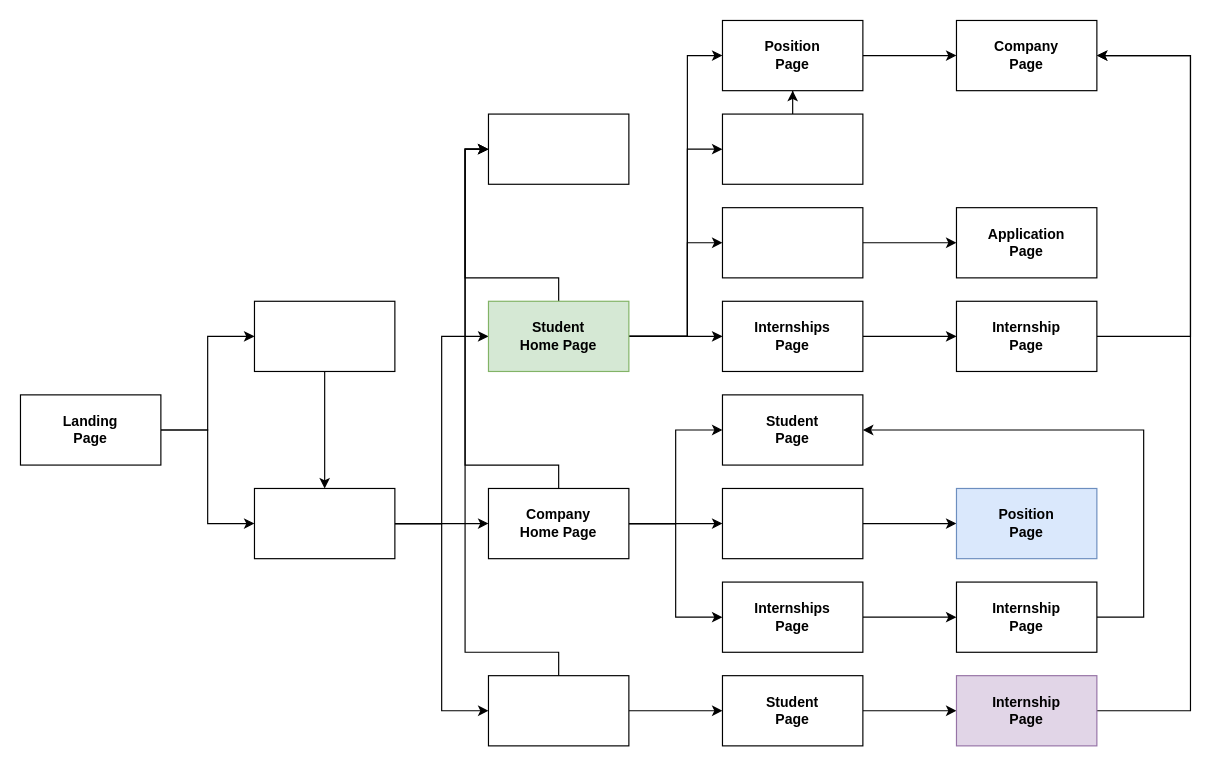
The diagram is 1220 pixels wide and 766 high, and some of its shapes have lost their labels. Here are the shapes that lost their labels. From the top down, the centre of each, then its label:
the point at 558,148: Profile Page
the point at 792,148: Results Page
the point at 792,242: Applications Page
the point at 324,335: Signup Page
the point at 324,523: Login Page
the point at 792,523: Positions Page
the point at 558,710: University Home Page
